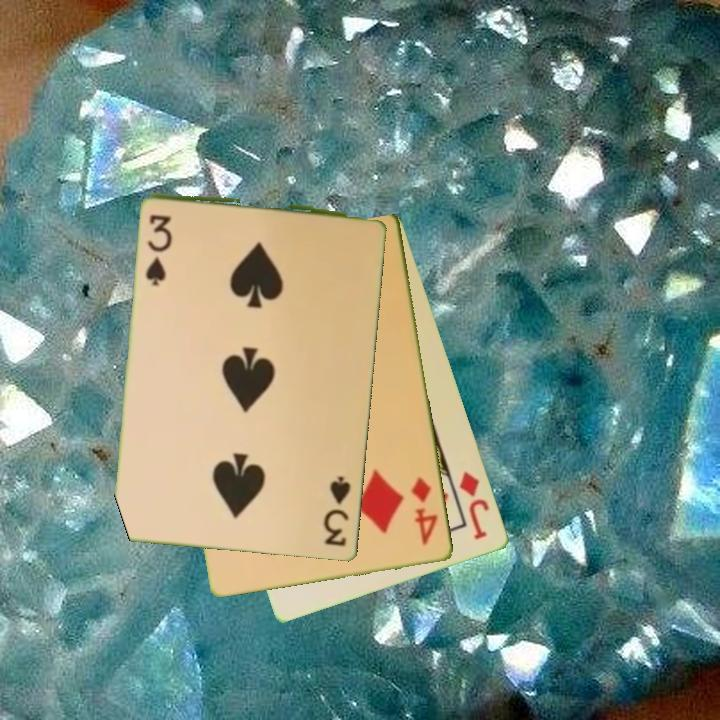3s: (321, 473, 354, 550), (142, 212, 176, 286)
4d: (408, 474, 441, 549)
Jd: (456, 467, 493, 543)
